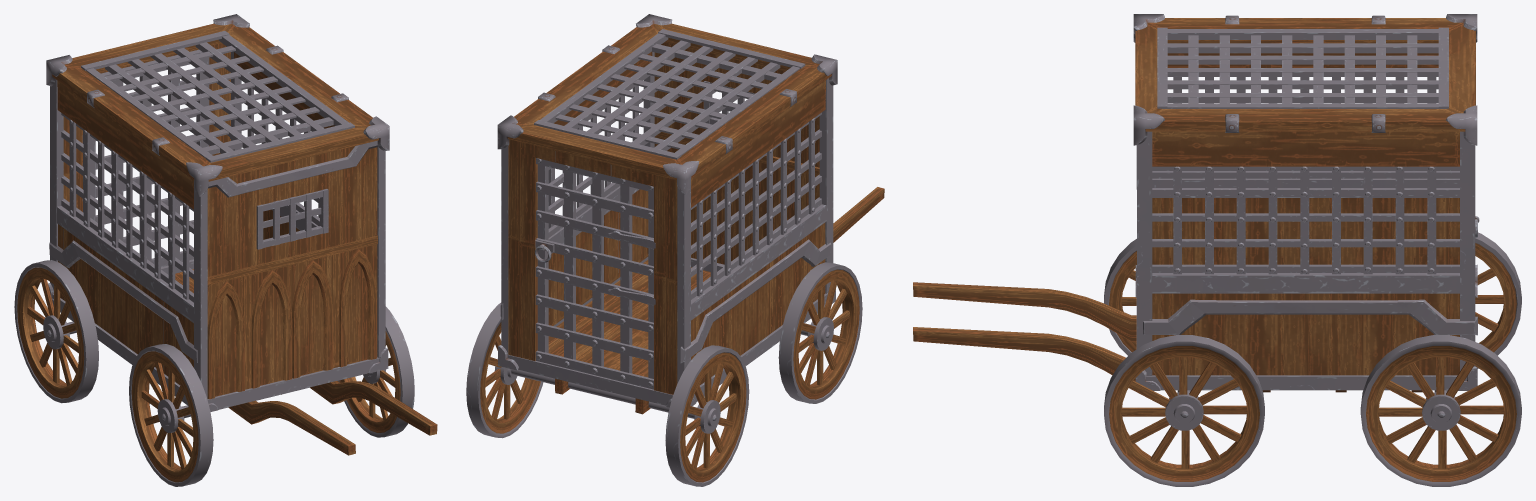
Rendered from Wagon.fbx.
3 views of the same model, side by side, from view 1: azimuth 30°, elevation 25°; view 2: azimuth 150°, elevation 25°; view 3: azimuth 270°, elevation 25° (orthographic). The views are drawn at different scales.
Visible parts, largest first — view 1: Wagon; view 2: Wagon; view 3: Wagon.
Boxes of the visible parts, x1=… form: Wagon: x1=14, y1=14, x2=437, y2=486; Wagon: x1=466, y1=14, x2=884, y2=486; Wagon: x1=913, y1=14, x2=1521, y2=486.
Bounding box in the file's own units: 209 × 295 × 449.
